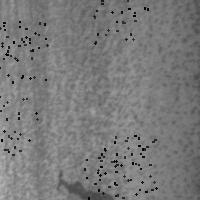pitted_surface: (55, 1, 144, 200), (135, 1, 198, 198), (97, 135, 155, 192), (0, 21, 46, 81), (84, 153, 140, 200), (93, 0, 147, 42), (0, 96, 36, 154)
